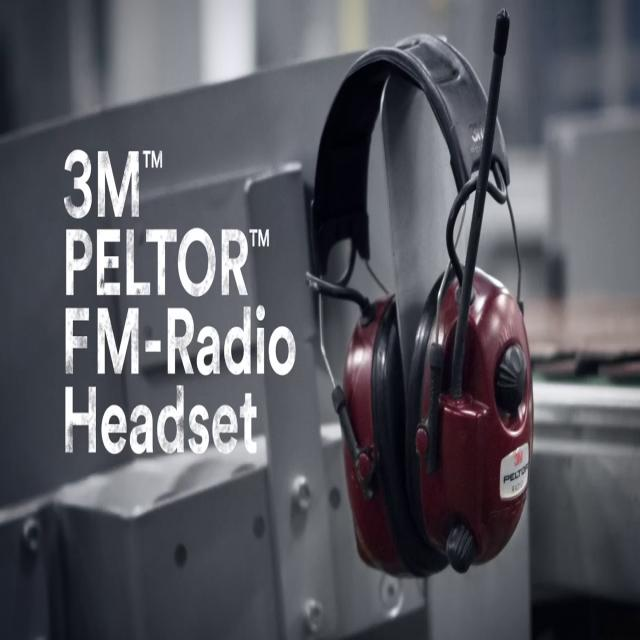earmuff: (410, 260, 534, 582), (334, 264, 410, 587)
